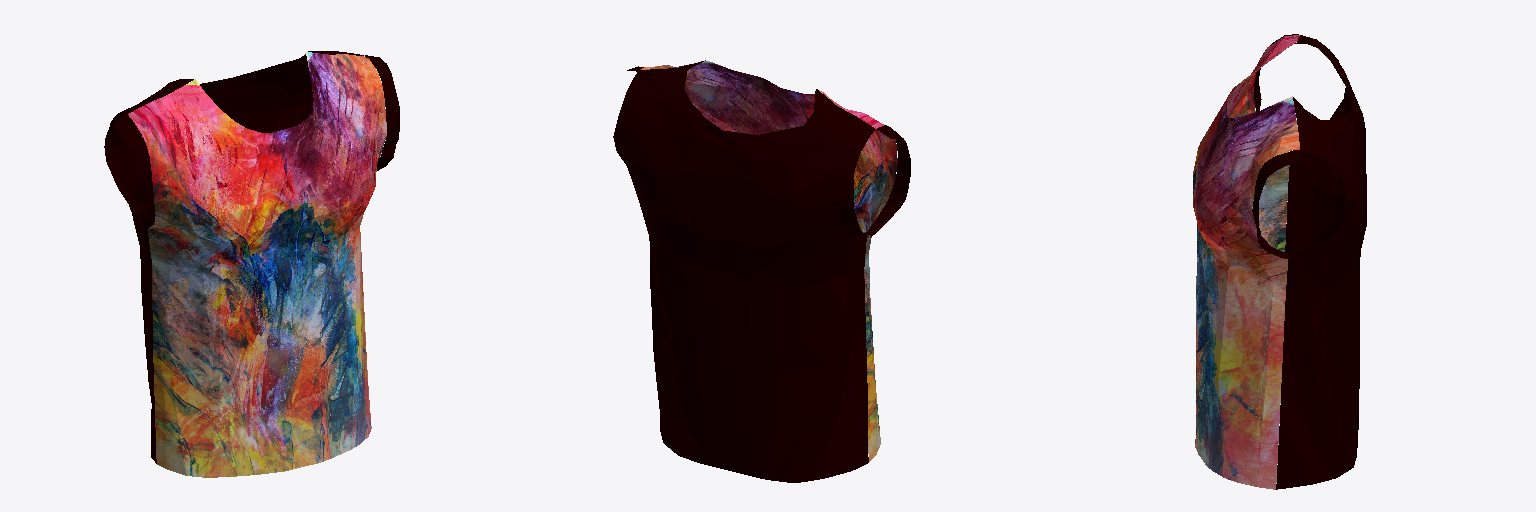
3 views of the same model, side by side, from view 1: azimuth 30°, elevation 25°; view 2: azimuth 150°, elevation 25°; view 3: azimuth 270°, elevation 25° (orthographic).
Visible parts, largest first — view 1: T_shirt; view 2: T_shirt; view 3: T_shirt.
Part boxes in pixels (left/top/right/bottom): T_shirt: left=104, top=51, right=399, bottom=477; T_shirt: left=613, top=60, right=910, bottom=482; T_shirt: left=1193, top=34, right=1366, bottom=489.
Bounding box in the file's own units: 0.2935 × 0.3892 × 0.1639.
2 materials, 1 textured.